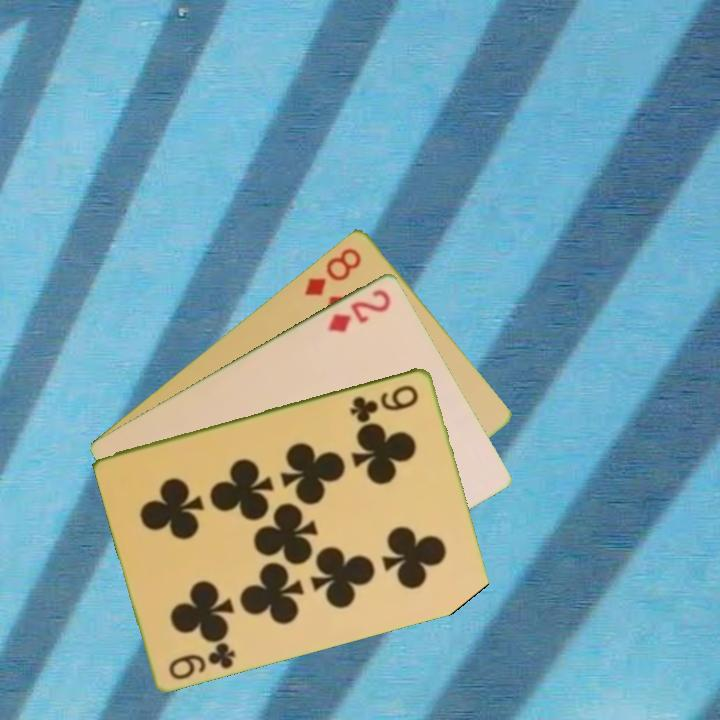2d: (324, 285, 394, 335)
8d: (301, 243, 365, 298)
9c: (165, 638, 239, 682), (347, 380, 422, 422)
